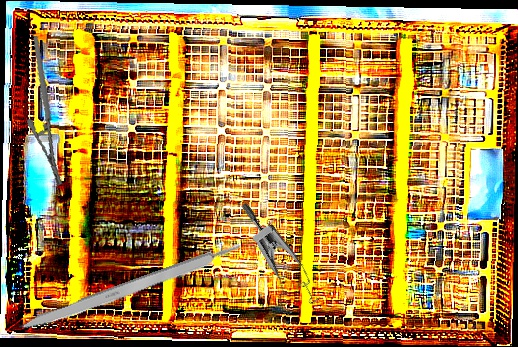Needle Holder: (7, 35, 89, 187)
Scalpel Handle: (17, 241, 244, 337)
Speculum: (207, 201, 335, 325)
